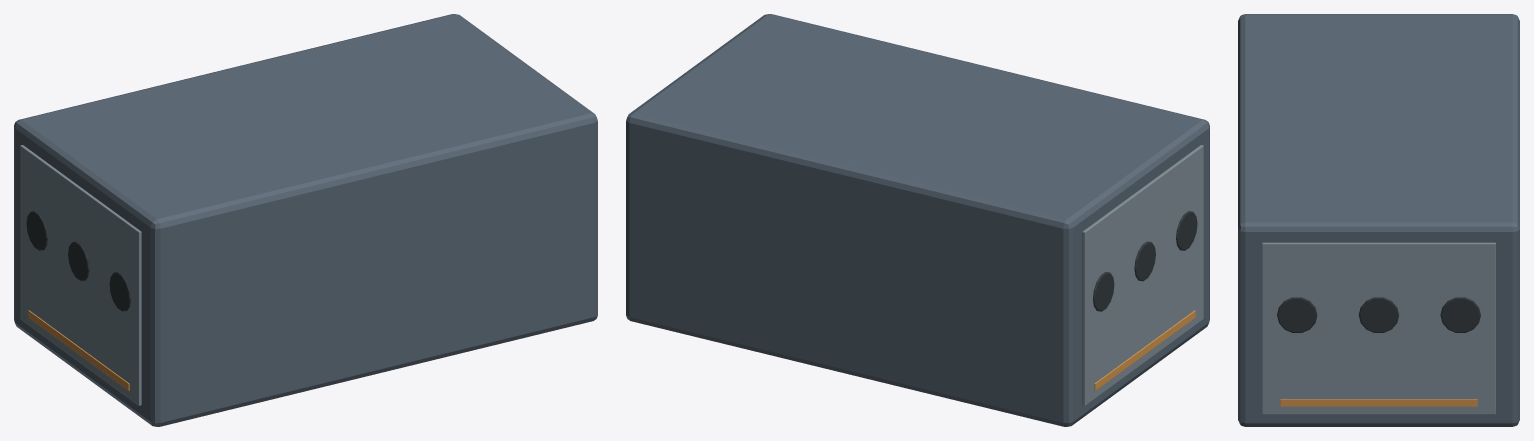
Rendered from maintenance-machinery.glb.
The picture shows the model from 3 angles, left to right: view 1: azimuth 30°, elevation 25°; view 2: azimuth 150°, elevation 25°; view 3: azimuth 270°, elevation 25°; orthographic projection.
Visible parts, largest first — view 1: Visual_MaintenanceMachinery_Shell, Visual_Merged_ZA_MaintenanceMachinery_Root_Neutral_Steel, Visual_Merged_ZA_MaintenanceMachinery_Root_Rubber_Dark, Visual_Merged_ZA_MaintenanceMachinery_Root_Warning_Orange; view 2: Visual_MaintenanceMachinery_Shell, Visual_Merged_ZA_MaintenanceMachinery_Root_Neutral_Steel, Visual_Merged_ZA_MaintenanceMachinery_Root_Rubber_Dark, Visual_Merged_ZA_MaintenanceMachinery_Root_Warning_Orange; view 3: Visual_MaintenanceMachinery_Shell, Visual_Merged_ZA_MaintenanceMachinery_Root_Neutral_Steel, Visual_Merged_ZA_MaintenanceMachinery_Root_Rubber_Dark, Visual_Merged_ZA_MaintenanceMachinery_Root_Warning_Orange.
Boxes of the visible parts, x1,y1,x2,y2 form: Visual_MaintenanceMachinery_Shell: (14,14,597,426); Visual_Merged_ZA_MaintenanceMachinery_Root_Neutral_Steel: (20,145,141,405); Visual_Merged_ZA_MaintenanceMachinery_Root_Rubber_Dark: (26,211,130,311); Visual_Merged_ZA_MaintenanceMachinery_Root_Warning_Orange: (28,310,129,390); Visual_MaintenanceMachinery_Shell: (626,14,1209,426); Visual_Merged_ZA_MaintenanceMachinery_Root_Neutral_Steel: (1082,145,1203,405); Visual_Merged_ZA_MaintenanceMachinery_Root_Rubber_Dark: (1093,211,1197,311); Visual_Merged_ZA_MaintenanceMachinery_Root_Warning_Orange: (1094,310,1195,390); Visual_MaintenanceMachinery_Shell: (1238,14,1519,426); Visual_Merged_ZA_MaintenanceMachinery_Root_Neutral_Steel: (1262,242,1495,414); Visual_Merged_ZA_MaintenanceMachinery_Root_Rubber_Dark: (1277,297,1480,332); Visual_Merged_ZA_MaintenanceMachinery_Root_Warning_Orange: (1280,399,1477,406).
Size of the model in its own units: 9.2 by 4 by 5.
